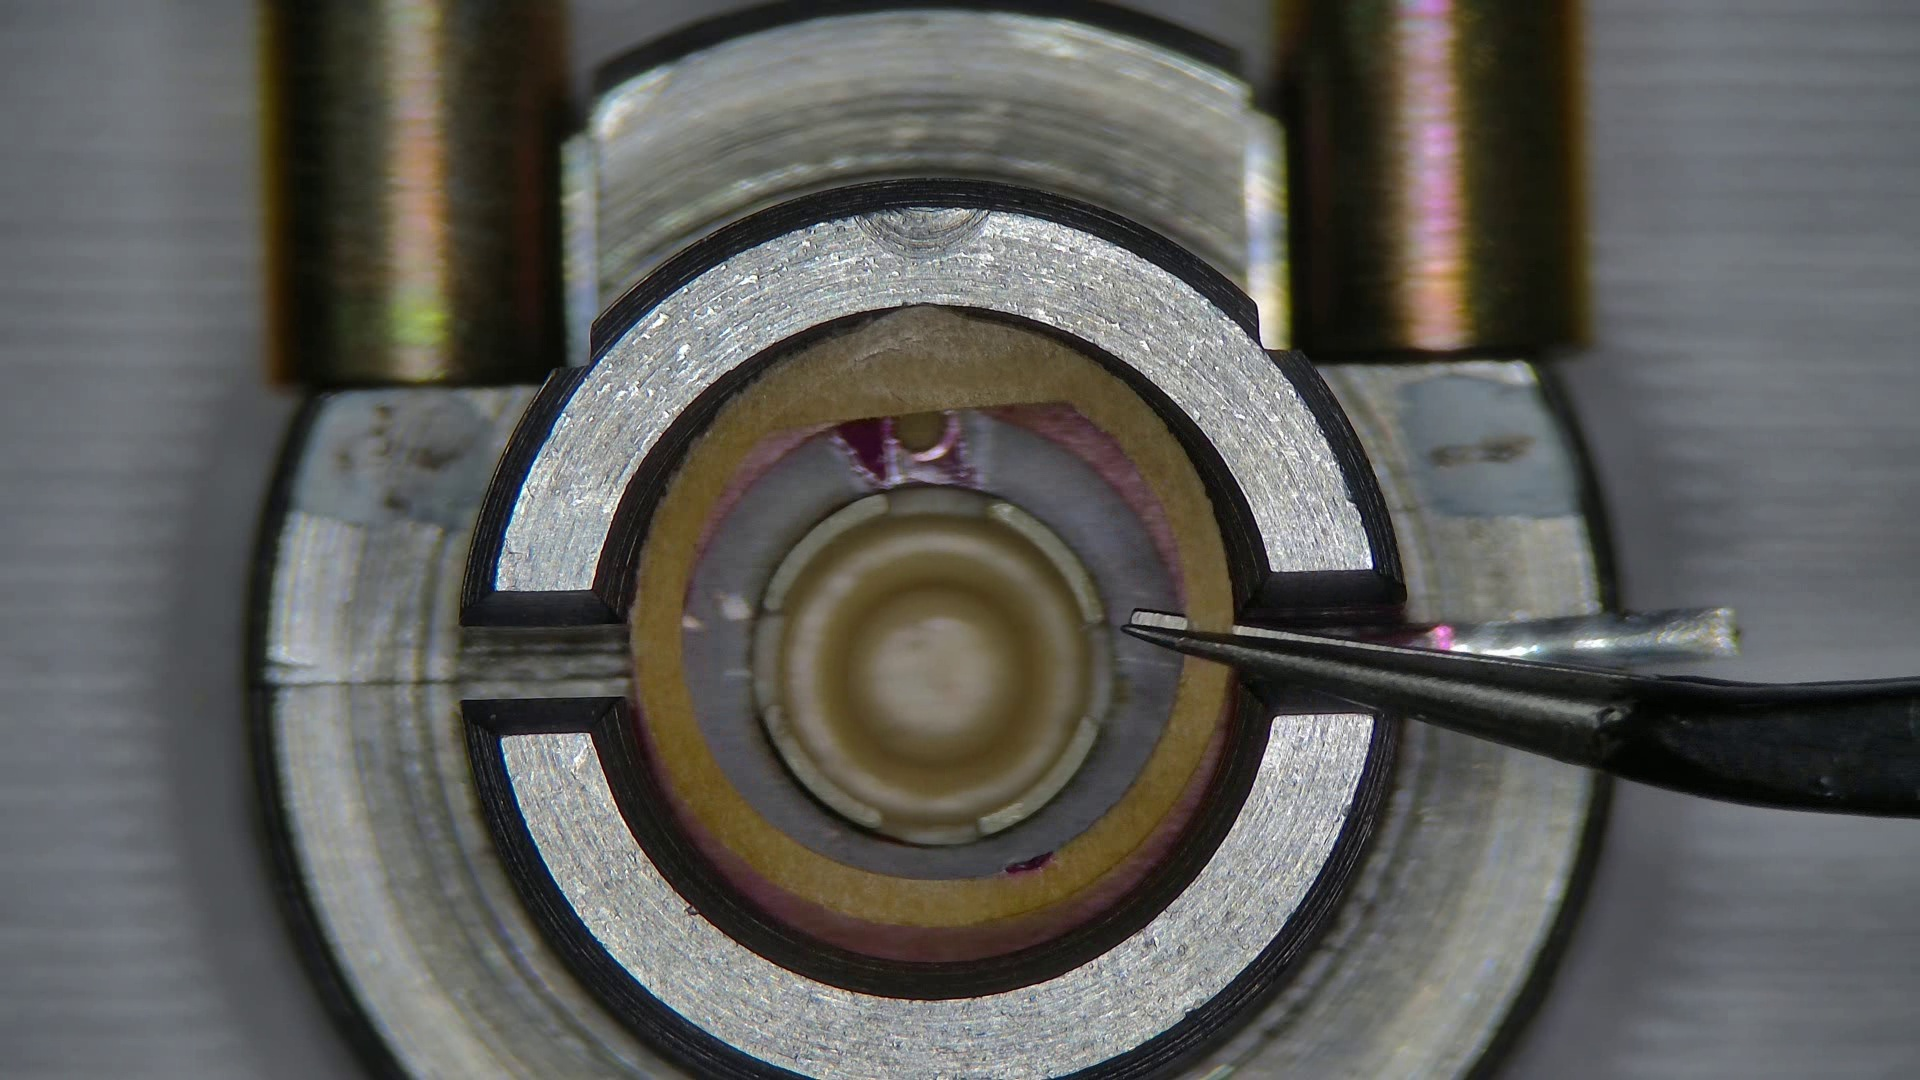GreyOring: (699, 728, 1220, 965), (998, 404, 1171, 568), (698, 421, 828, 543)
YellowOring: (688, 416, 1177, 878)
redOring: (632, 309, 1232, 925)
